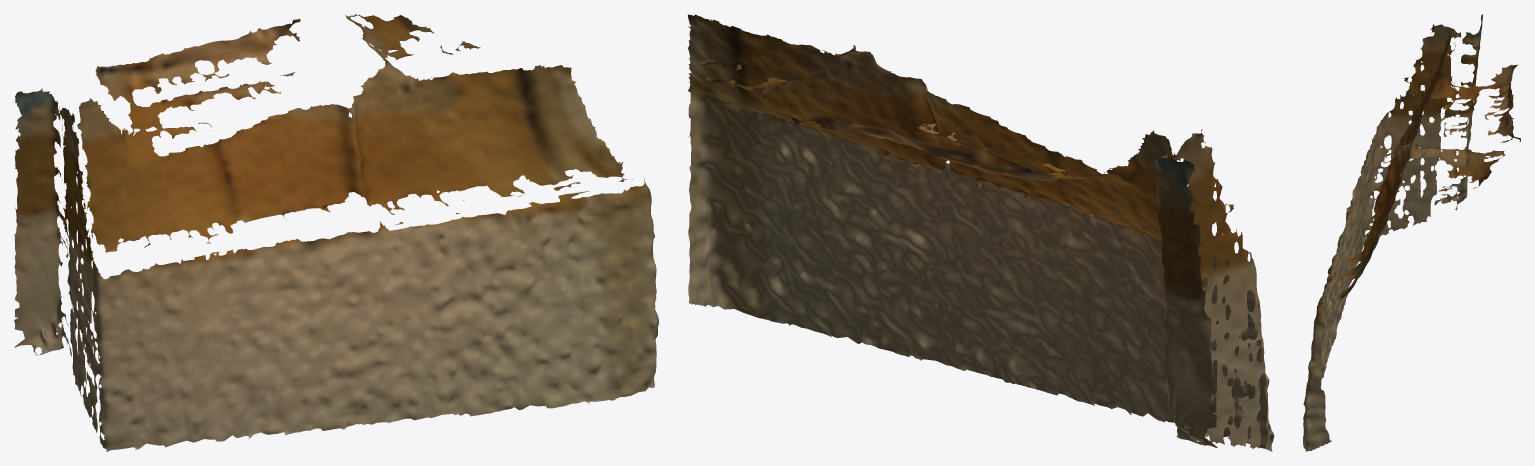
File: color_model_f005_20260205_111611.obj
3 renders of one model, left to right at view 1: azimuth 30°, elevation 25°; view 2: azimuth 150°, elevation 25°; view 3: azimuth 270°, elevation 25°, orthographic. The views are drawn at different scales.
Bounding box in the file's own units: 1.84 × 1.09 × 0.8607.
